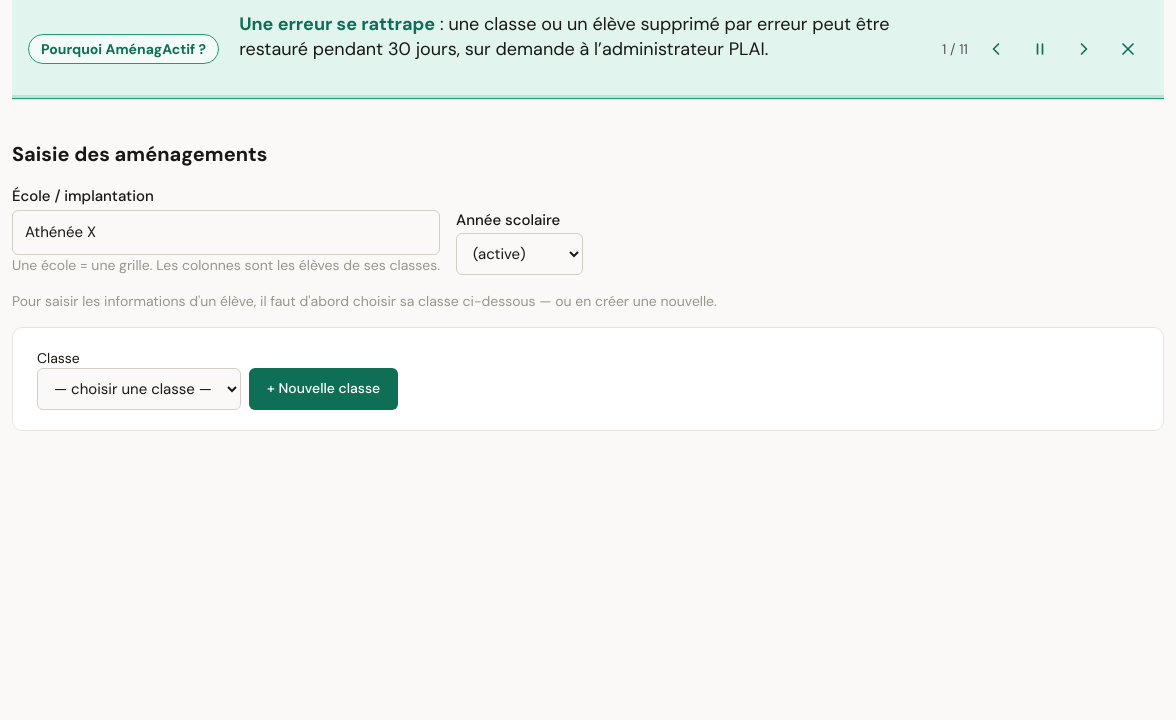
Test case: SaisieEcole : dispositifs › (c) bascule vers AU refusée si une case élève est cochée : alerte, pas de mutation
Select "5LA — 5e" in the dropdown labelled "Classe" at [139, 389], box [37,368,241,410]
(page scrolled)
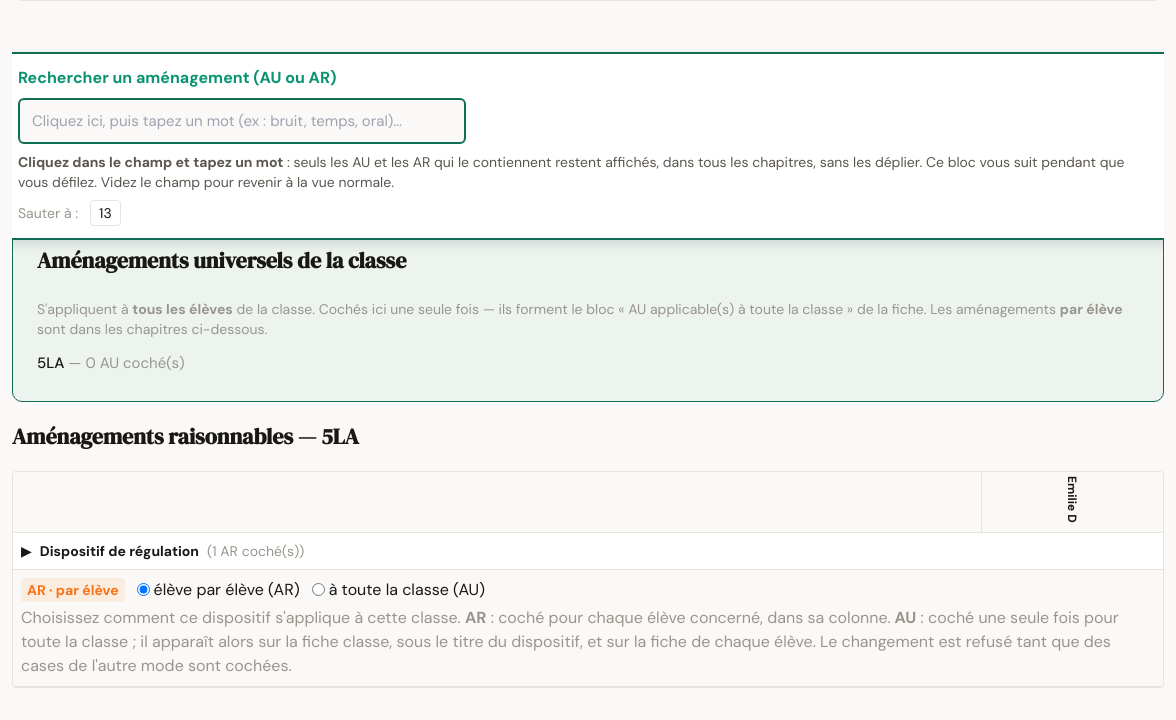
Click the radio button labelled "à toute la classe (AU)" at [318, 590], box [312,583,325,596]
(page scrolled)
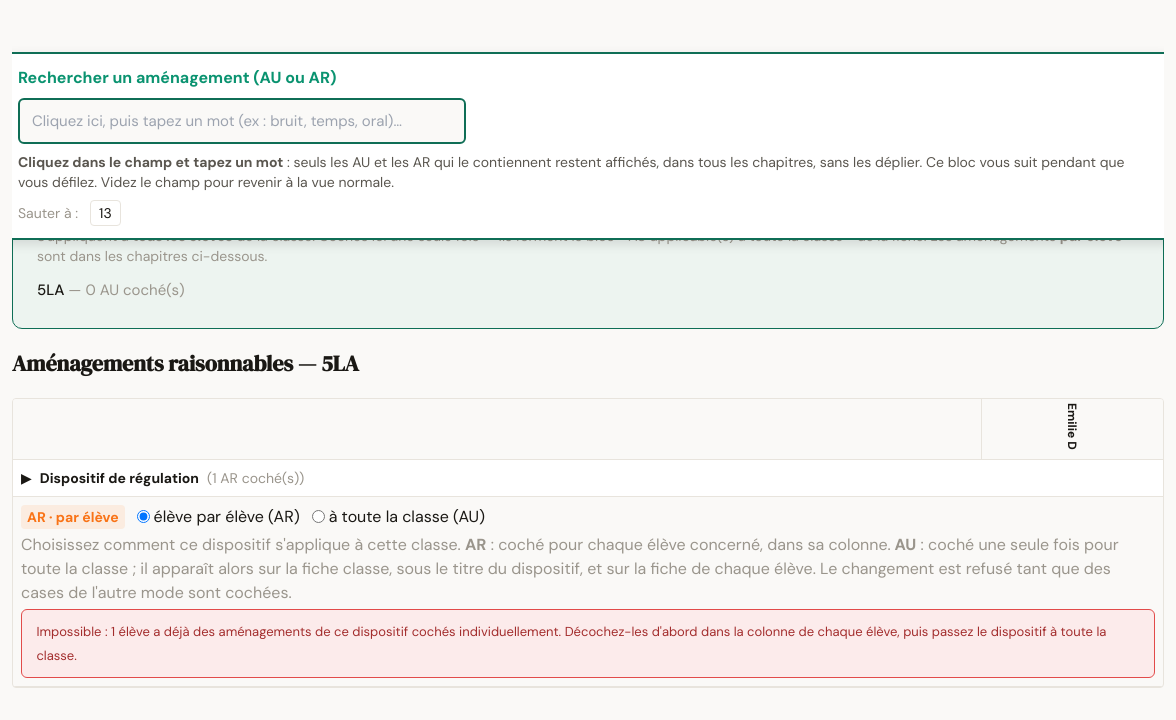
Expected: the message shows "1 élève a déjà", [36,622,1106,664]
